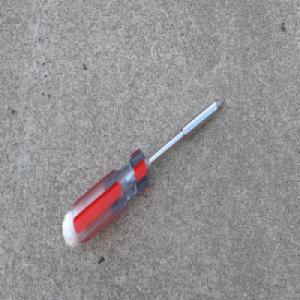Screwdriver: (62, 96, 227, 249)
